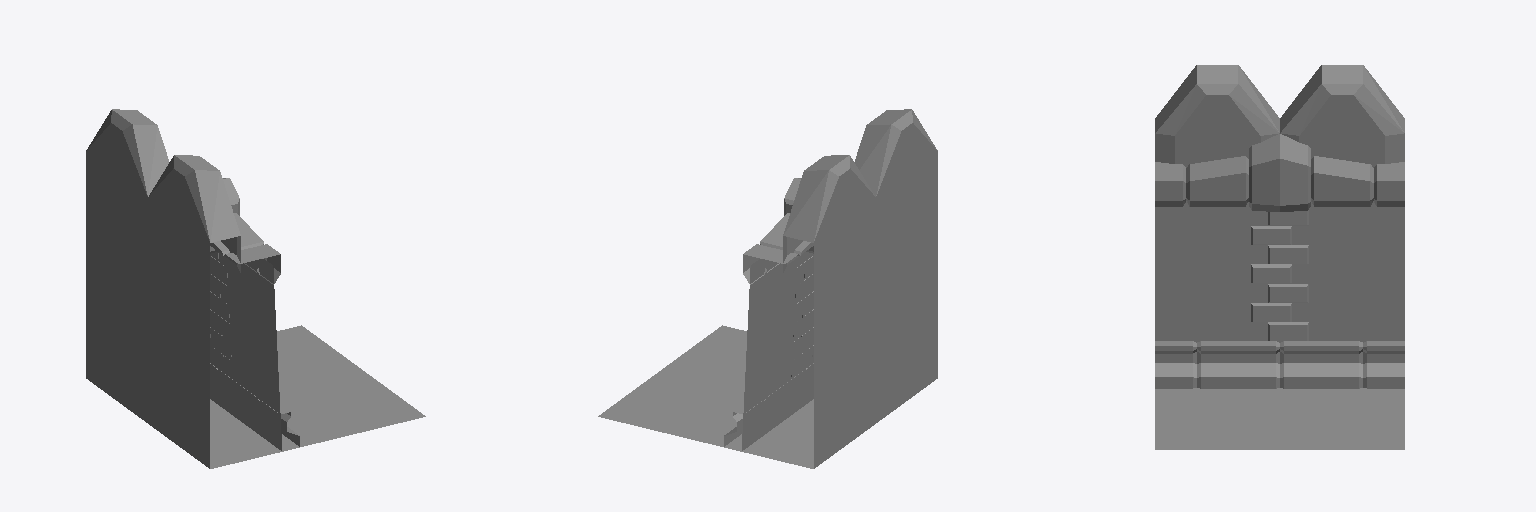
File: Wall.obj
3 renders of one model, left to right at view 1: azimuth 30°, elevation 25°; view 2: azimuth 150°, elevation 25°; view 3: azimuth 270°, elevation 25°, orthographic.
Visible parts, largest first — view 1: Palette; view 2: Palette; view 3: Palette.
Part boxes in pixels (x1,y1,x2,y2): Palette: (86,109,425,468); Palette: (598,109,937,468); Palette: (1155,65,1404,449).
Bounding box in the file's own units: 6 × 7.5 × 6.